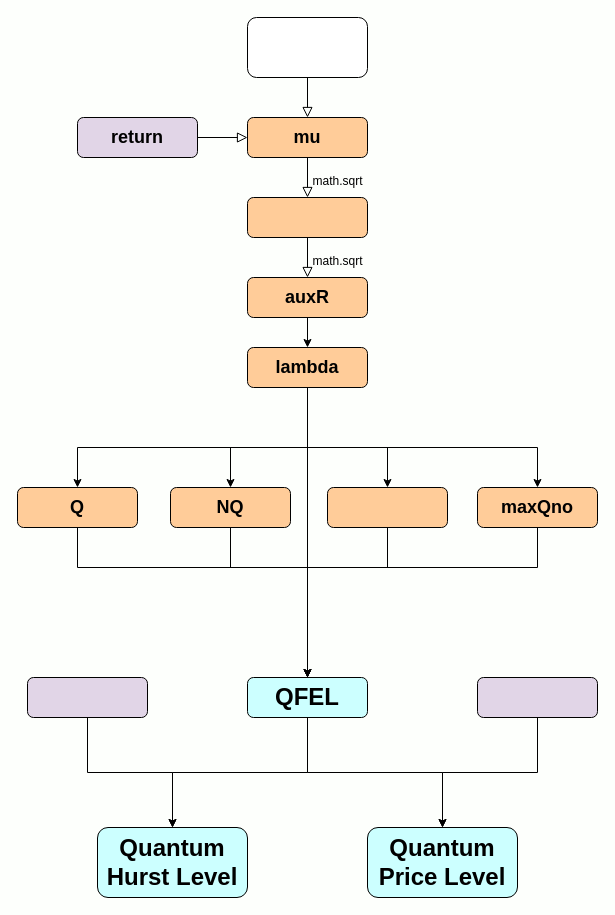
This 615x915 diagram has some shape labels left out. The shapes that lost their labels are listed below. From the top down, each one's box as (x1, y1, x2, y2) in pixels, then its label:
(246, 16, 368, 78): Calculate K values
(246, 196, 368, 238): sigma
(326, 486, 448, 528): maxQ
(26, 676, 148, 718): Hurst
(476, 676, 598, 718): Price
